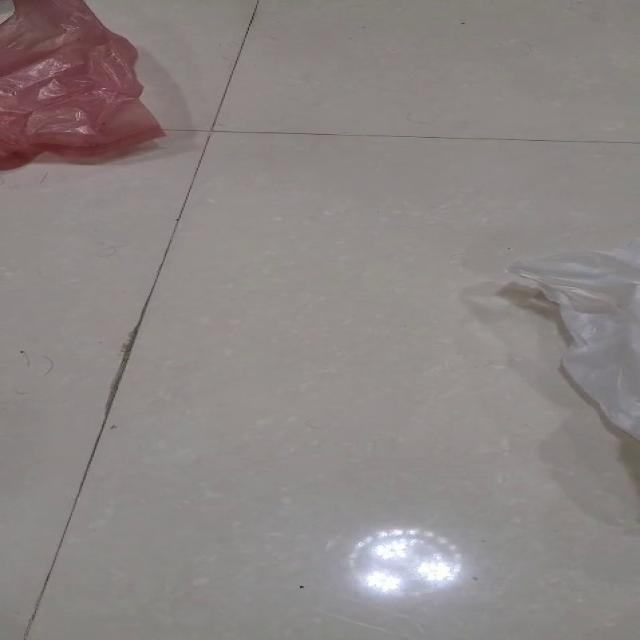plastic: (0, 0, 166, 171), (504, 243, 638, 441)
